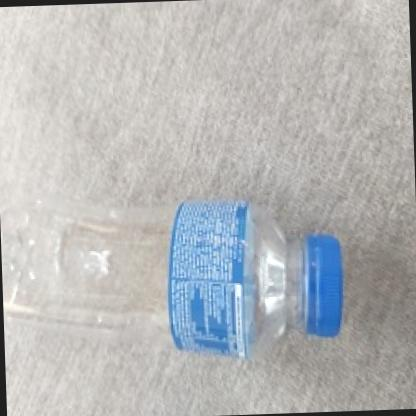plastic_bottles: (3, 184, 367, 372)
